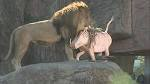lion: (5, 3, 90, 68)
